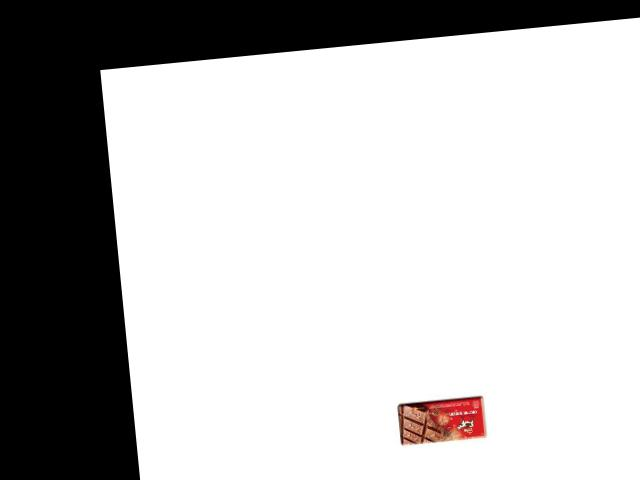chocolate: (394, 394, 488, 447)
